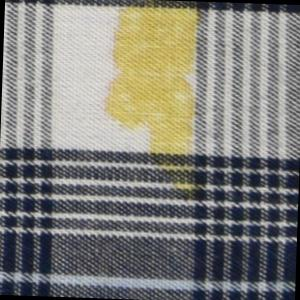Stain: (99, 1, 206, 204)
